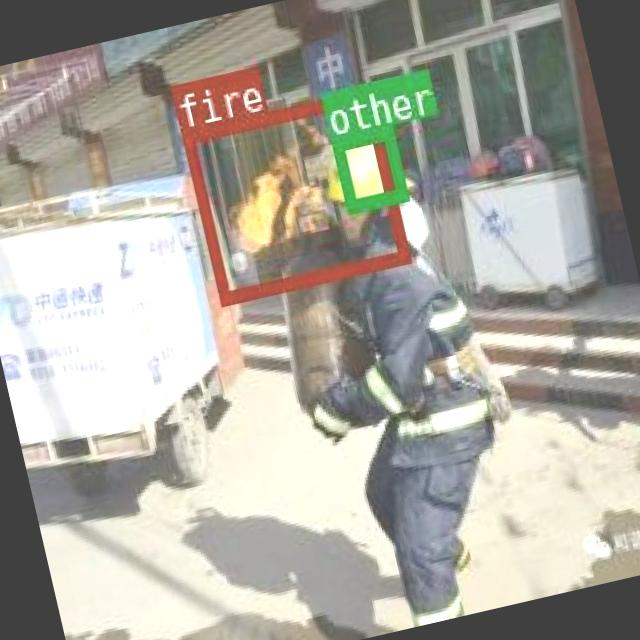fire: (178, 88, 406, 302)
